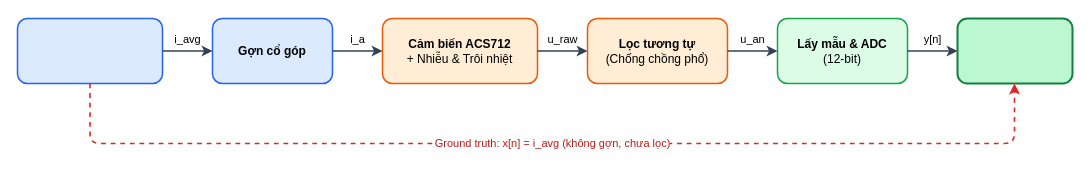
Image size: 1091x169. Some labels were removed from this diagram. The shapes that lost their labels are listed below. From the top down, each one's centre as x and y in pixels, then its label:
At point 89,50: "Động cơ DC & Tải ngẫu nhiên".
At point 1014,50: "Dữ liệu đo y[n], x[n]".
